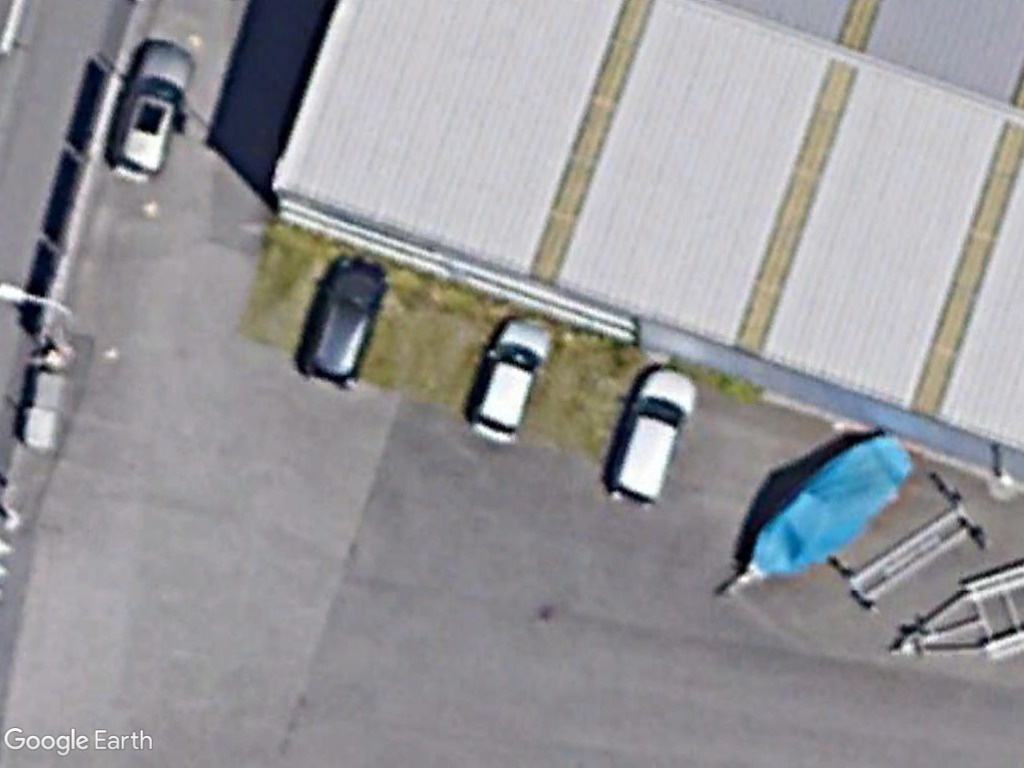boat: (733, 432, 913, 583)
car: (106, 41, 196, 186), (297, 259, 389, 389), (465, 321, 555, 446)
van: (601, 368, 703, 509)
